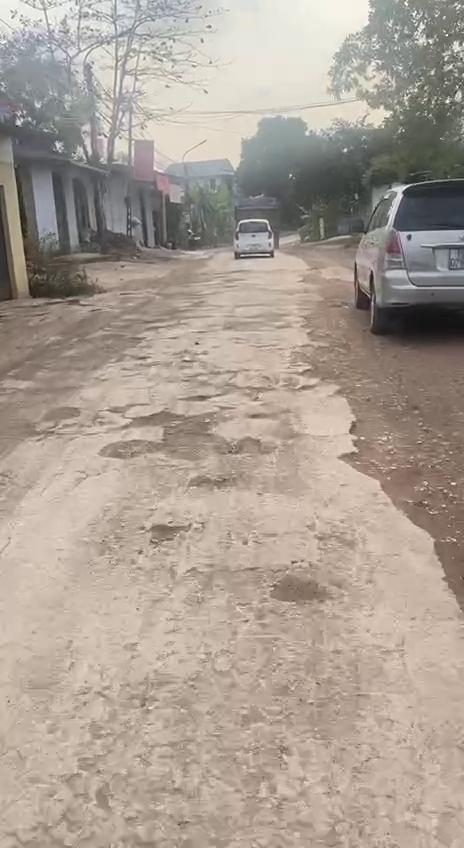pothole: (337, 418, 446, 539), (100, 401, 270, 462), (137, 513, 194, 552), (38, 406, 80, 426)
